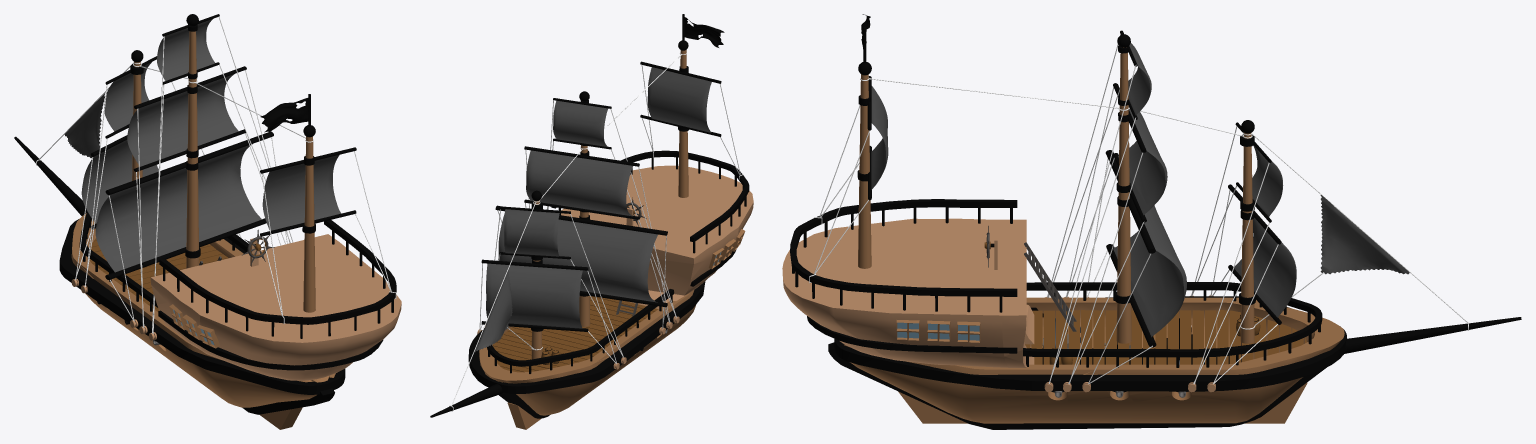
The model's file is ship.fbx.
3 renders of one model, left to right at view 1: azimuth 30°, elevation 25°; view 2: azimuth 150°, elevation 25°; view 3: azimuth 270°, elevation 25°, orthographic. The views are drawn at different scales.
Visible parts, largest first — view 1: Ship; view 2: Ship; view 3: Ship.
Part boxes in pixels (x1=…): Ship: x1=14, y1=14, x2=401, y2=429; Ship: x1=430, y1=14, x2=753, y2=429; Ship: x1=782, y1=14, x2=1521, y2=429.
Bounding box in the file's own units: 1533 × 2829 × 4768.
